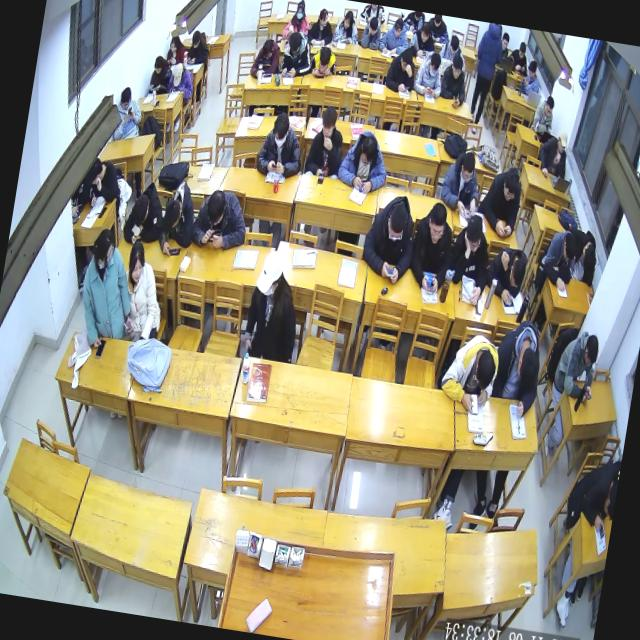bow: (188, 184, 254, 256), (154, 176, 202, 262), (120, 178, 170, 250), (482, 242, 530, 308), (538, 223, 582, 295), (307, 42, 340, 82)
down: (512, 346, 542, 397), (424, 198, 451, 248), (471, 348, 499, 394), (383, 201, 410, 245), (462, 212, 487, 257), (269, 110, 293, 152), (204, 188, 228, 230), (128, 192, 152, 230), (580, 332, 602, 370), (358, 133, 380, 170), (162, 196, 184, 233), (506, 255, 528, 292), (579, 242, 599, 276), (86, 156, 106, 189), (560, 234, 580, 266), (286, 30, 305, 59), (427, 50, 444, 80), (448, 54, 466, 82), (118, 84, 135, 113), (316, 44, 334, 71), (555, 130, 571, 157), (398, 48, 414, 74), (418, 20, 434, 45), (170, 60, 184, 88), (391, 15, 406, 40), (542, 94, 556, 120), (366, 15, 381, 38), (152, 53, 165, 76), (190, 27, 203, 50), (294, 0, 307, 23), (342, 8, 354, 32), (526, 59, 539, 80), (168, 34, 181, 54), (516, 40, 528, 61)
lookup: (318, 105, 339, 142), (500, 31, 512, 52)
sit: (486, 316, 550, 424), (357, 188, 422, 288), (436, 328, 504, 417), (442, 208, 498, 308), (405, 195, 460, 296), (562, 454, 622, 536), (478, 156, 528, 242), (550, 325, 604, 404), (334, 126, 394, 197), (253, 108, 310, 182), (302, 101, 351, 182), (440, 156, 494, 228), (82, 154, 125, 213), (110, 84, 148, 144), (534, 126, 574, 182), (568, 228, 602, 290), (278, 27, 316, 82), (438, 52, 472, 110), (412, 47, 446, 101), (384, 44, 419, 96), (248, 36, 284, 84), (377, 14, 414, 58), (406, 18, 439, 62), (280, 0, 313, 44), (306, 4, 338, 48), (147, 51, 175, 98), (529, 92, 558, 136), (166, 60, 197, 100), (331, 8, 362, 48), (436, 32, 468, 68), (185, 28, 213, 66), (358, 14, 386, 52), (518, 58, 544, 97), (507, 38, 532, 75), (164, 31, 188, 68)
